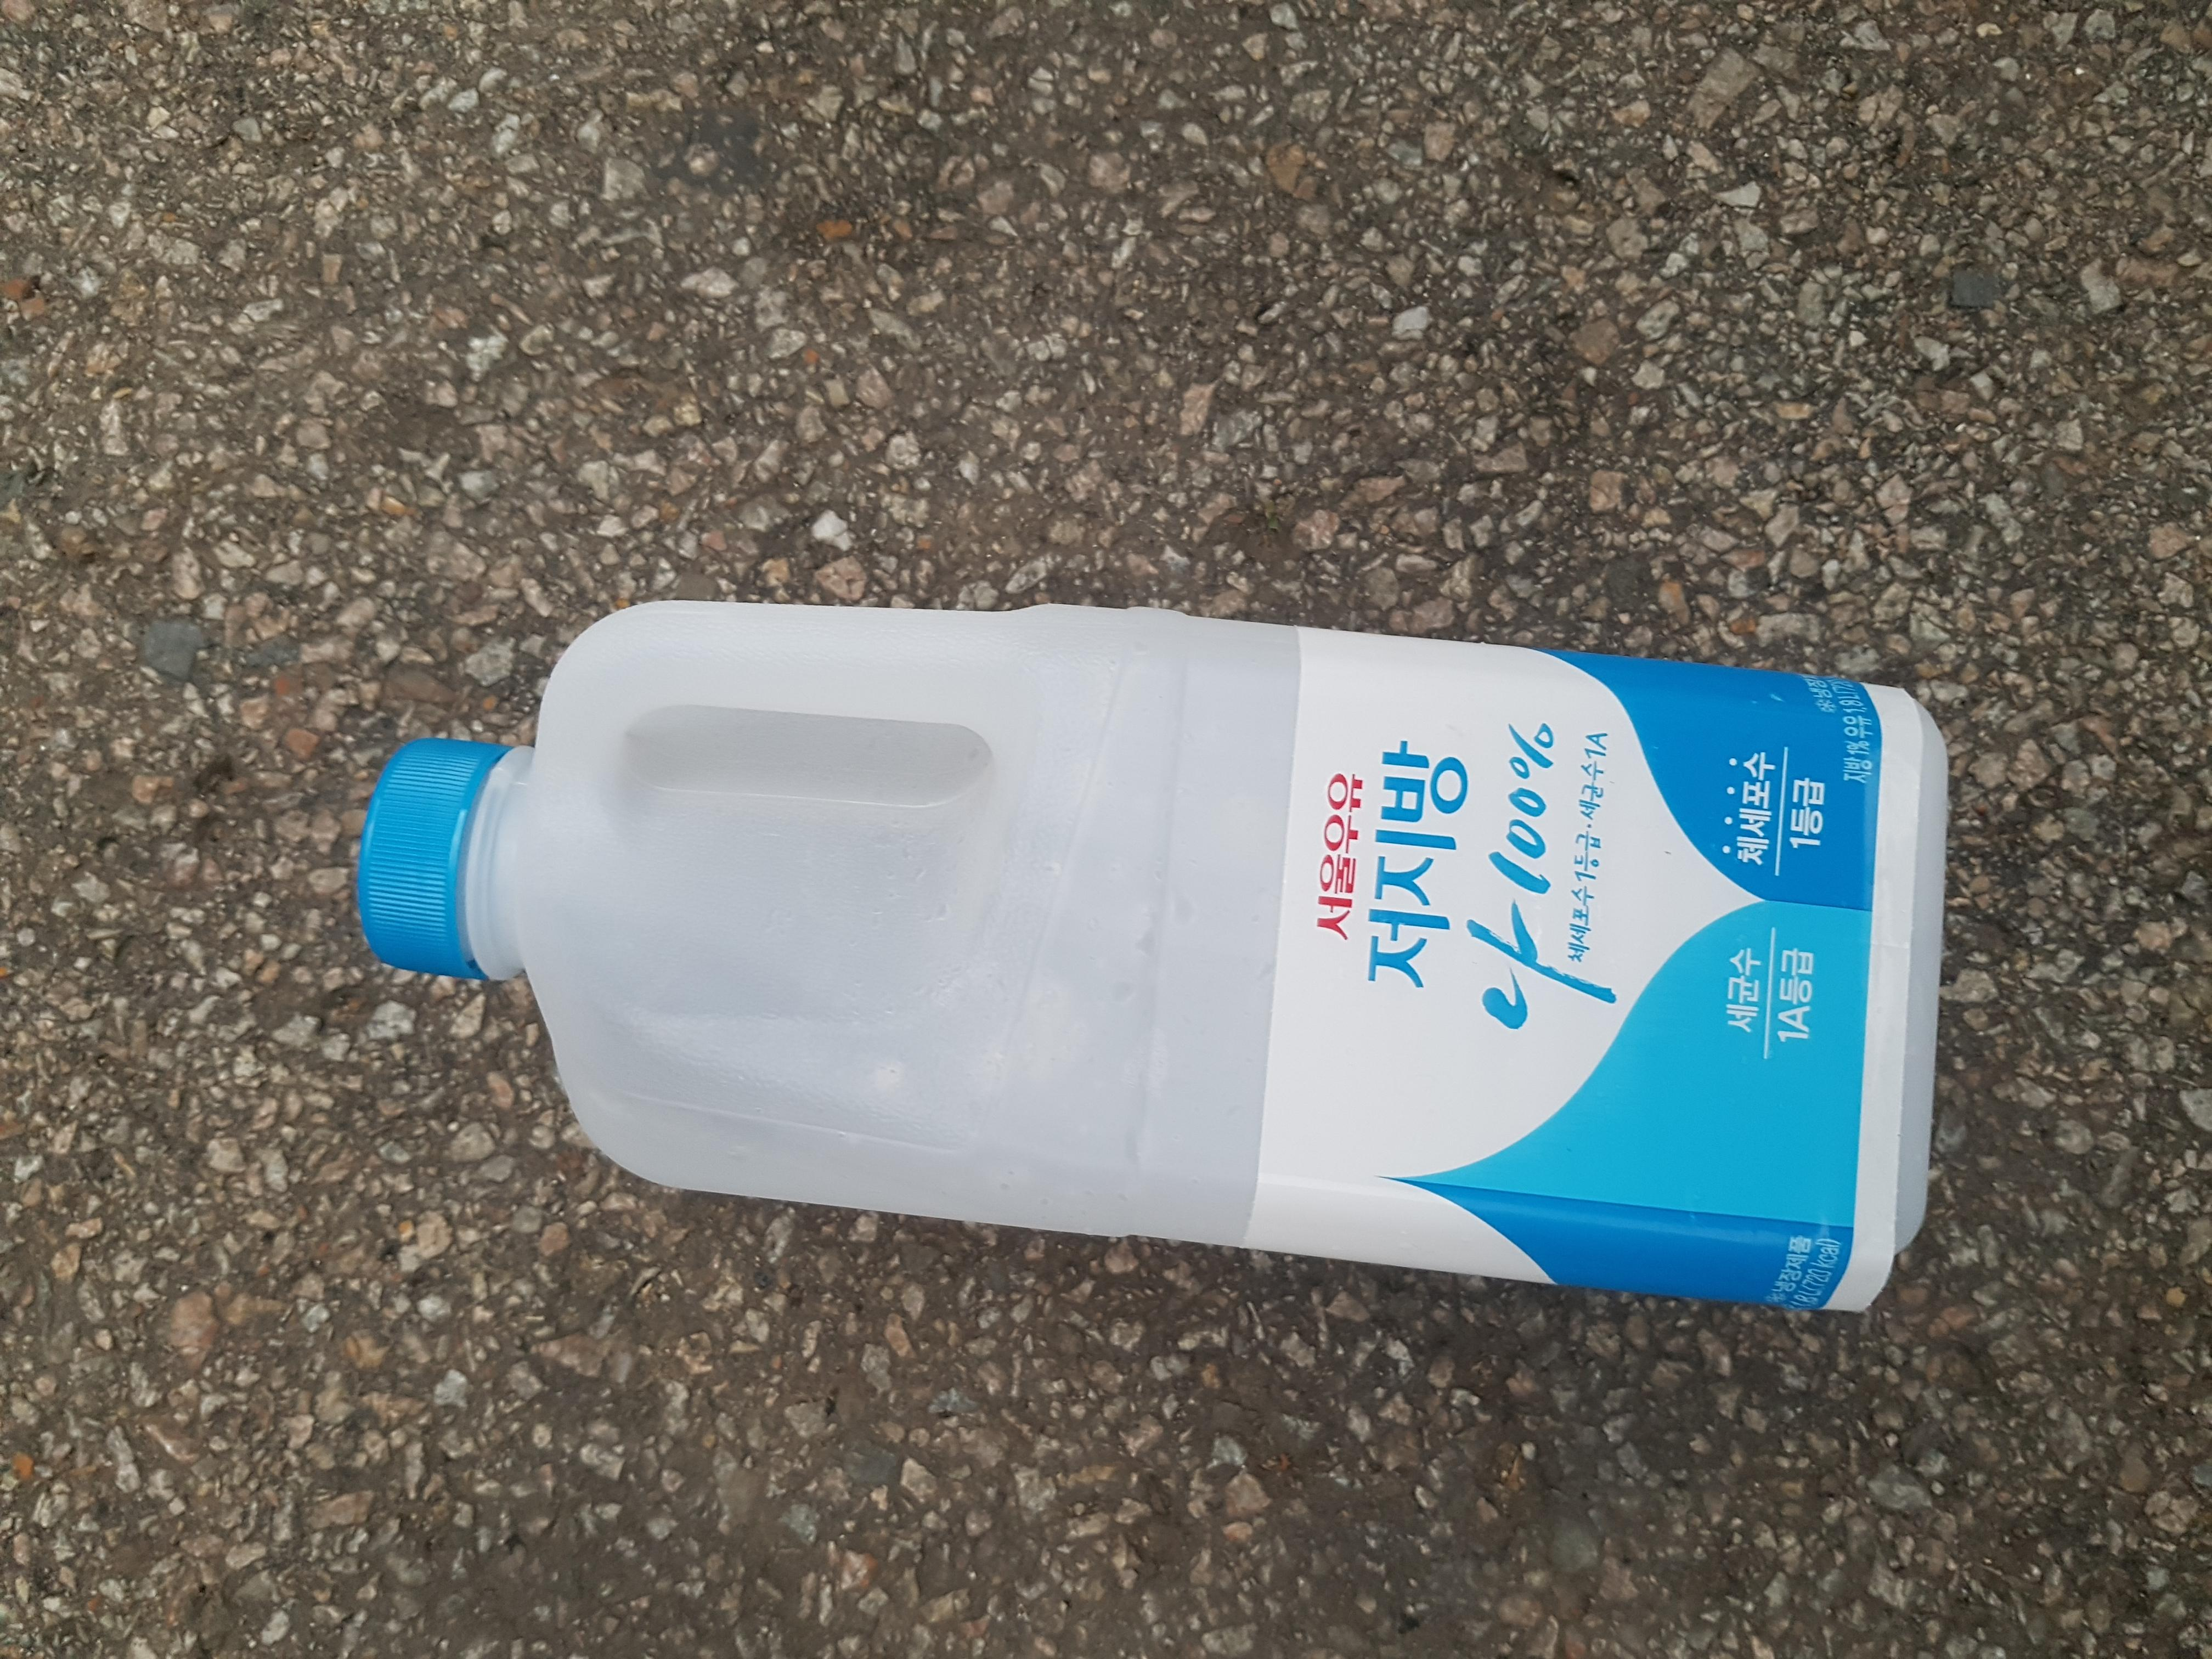bottle: (301, 589, 1973, 1253)
